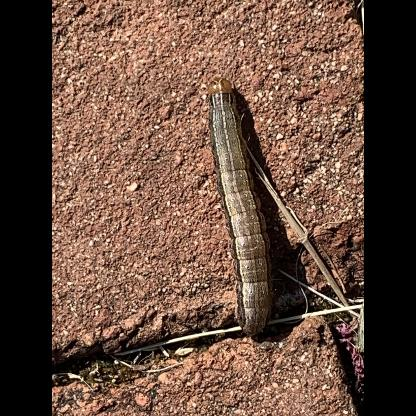Fall Armyworm Larvae: (201, 74, 278, 342)
